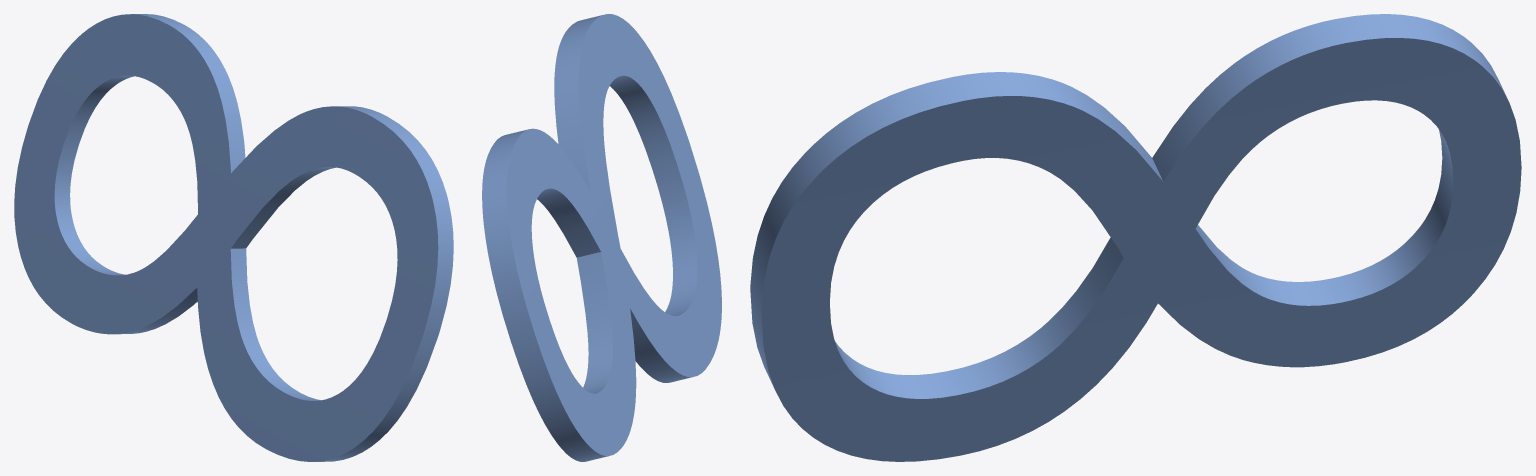
Rendered from New_Number_8.gltf.
3 renders of one model, left to right at view 1: azimuth 30°, elevation 25°; view 2: azimuth 150°, elevation 25°; view 3: azimuth 270°, elevation 25°, orthographic. The views are drawn at different scales.
Visible parts, largest first — view 1: Part 719; view 2: Part 719; view 3: Part 719.
Part boxes in pixels (left/top/right/bottom): Part 719: left=14, top=14, right=453, bottom=461; Part 719: left=482, top=14, right=721, bottom=461; Part 719: left=750, top=14, right=1521, bottom=461.
Bounding box in the file's own units: 0.00237 × 0.00359 × 0.00554.
